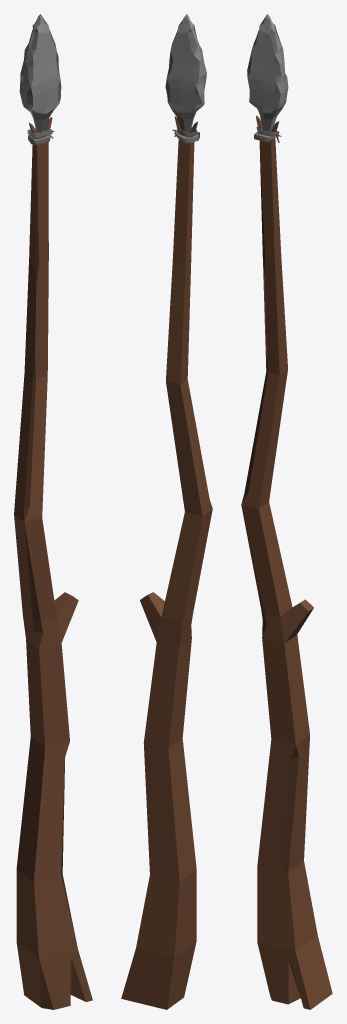
Rendered from spear.fbx.
3 views of the same model, side by side, from view 1: azimuth 30°, elevation 25°; view 2: azimuth 150°, elevation 25°; view 3: azimuth 330°, elevation 25° (orthographic).
Visible parts, largest first — view 1: Cube.009; view 2: Cube.009; view 3: Cube.009.
Boxes of the visible parts, left/top/right/bottom form: Cube.009: left=14, top=14, right=92, bottom=1009; Cube.009: left=121, top=14, right=212, bottom=1009; Cube.009: left=241, top=14, right=332, bottom=1009.
Bounding box in the file's own units: 42.22 × 578 × 24.78.
